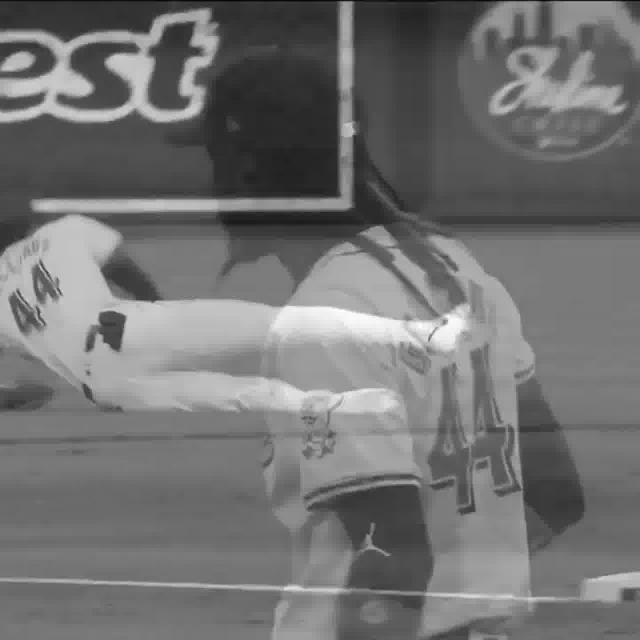base: (576, 564, 640, 602)
baseball_glove: (0, 378, 55, 415)
shoe: (431, 301, 478, 357), (322, 386, 403, 416)
